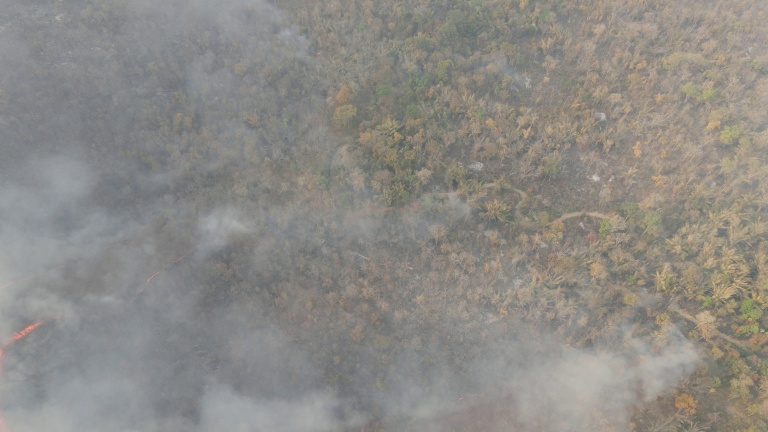fire: (1, 313, 62, 432), (128, 251, 199, 305)
smoke: (1, 166, 271, 432), (503, 326, 700, 426)
